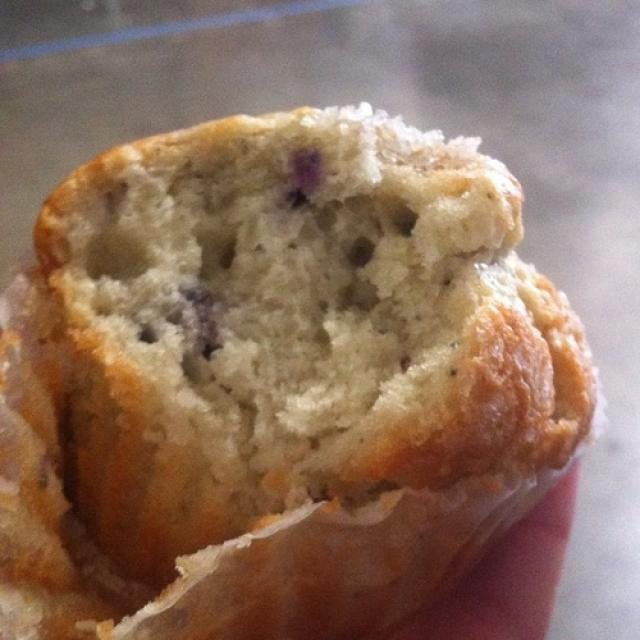炸货点心: (26, 111, 594, 628)
面包点心: (26, 111, 594, 628)
